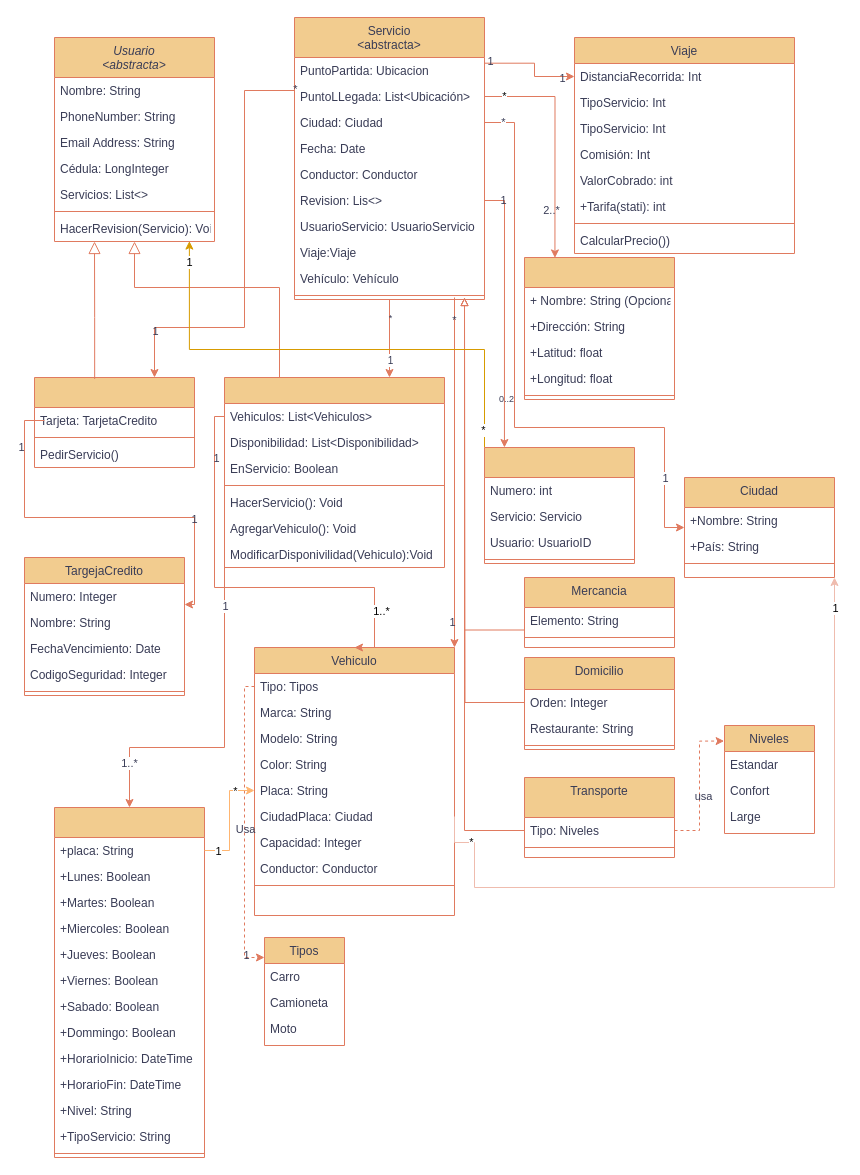
The diagram is 860 pixels wide and 1175 high, and some of its shapes have lost their labels. Each missing label, with the box of its shape:
Conductor: (224, 376, 444, 568)
Disponibilidad: (54, 806, 204, 1158)
Revision: (484, 446, 634, 564)
Ubicacion: (524, 256, 674, 400)
UsuarioServicio: (34, 376, 194, 468)
